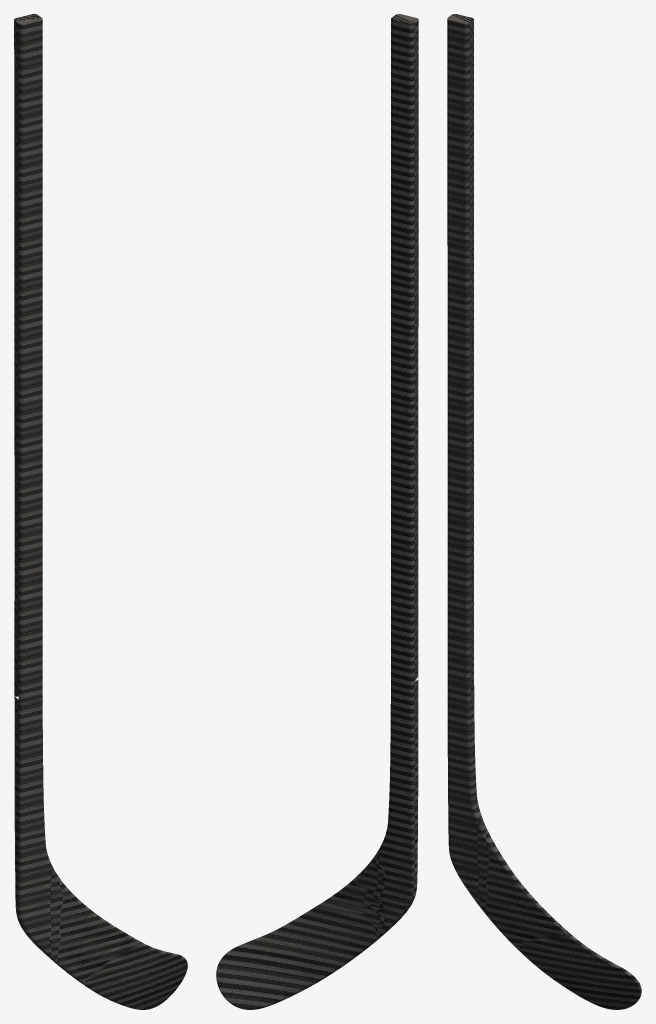
The picture shows the model from 3 angles, left to right: view 1: azimuth 30°, elevation 25°; view 2: azimuth 150°, elevation 25°; view 3: azimuth 330°, elevation 25°; orthographic projection. The views are drawn at different scales.
Parts seen in each view (by area): view 1: geometry_0; view 2: geometry_0; view 3: geometry_0.
Part boxes in pixels (x1,y1,x2,y2): geometry_0: (14, 14, 187, 1009); geometry_0: (216, 14, 418, 1009); geometry_0: (447, 14, 641, 1009).
Size of the model in its own units: 239 by 1263 by 56.34.
1 material, 1 textured.
